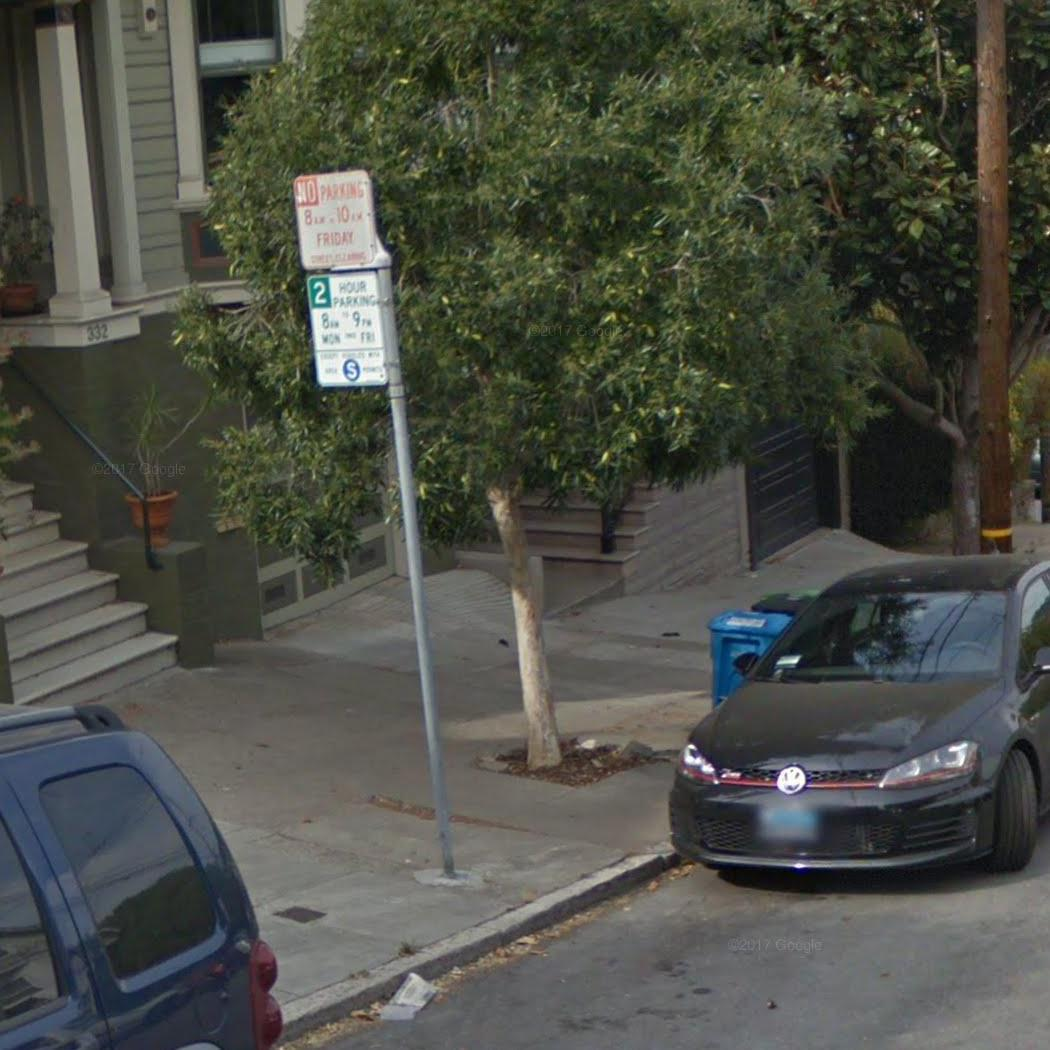2 Hour Parking: (301, 271, 390, 391)
No Parking: (290, 169, 380, 268)
